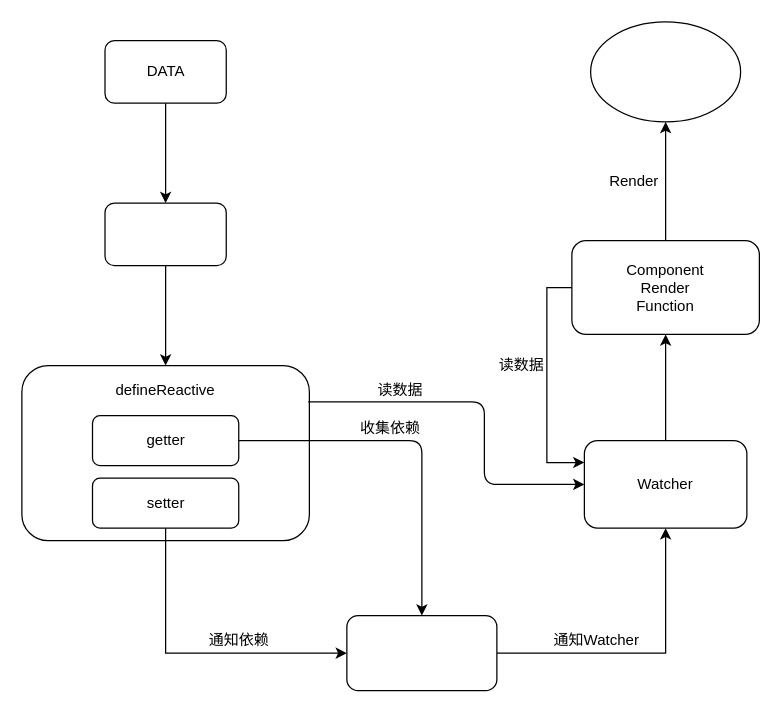
Image size: 781x713. Some labels were removed from this diagram. Here are the shapes that lost their labels. From the top down, the centre of each, then its label:
At pixel 665 71: "Virtual DOM Tree".
At pixel 165 234: "observe(DATA)".
At pixel 421 652: "DEP".
